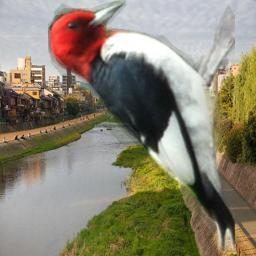Woodpecker: (48, 0, 235, 251)
